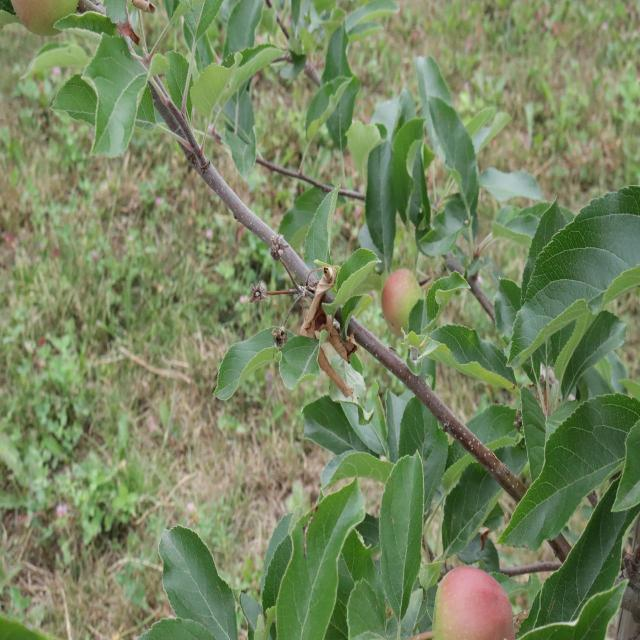-FireBlight-: (300, 255, 334, 349)
